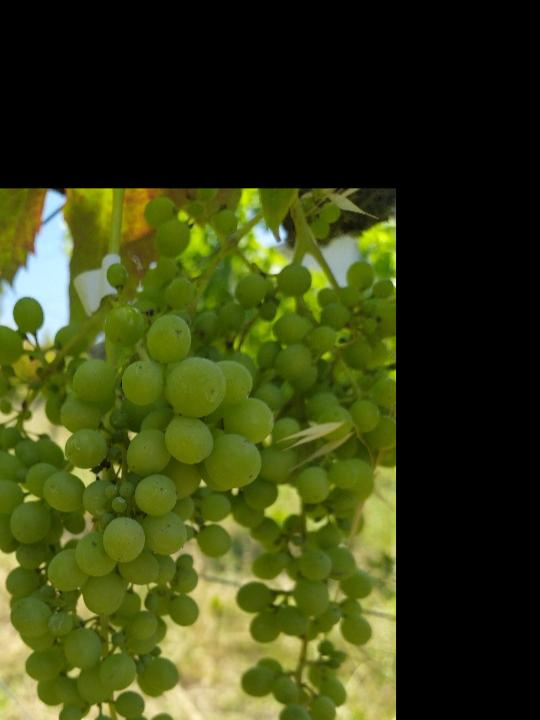grape: (0, 260, 278, 720)
